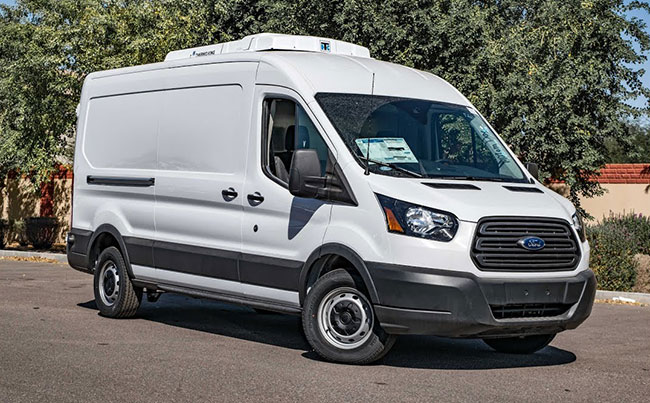van: (68, 34, 597, 363)
